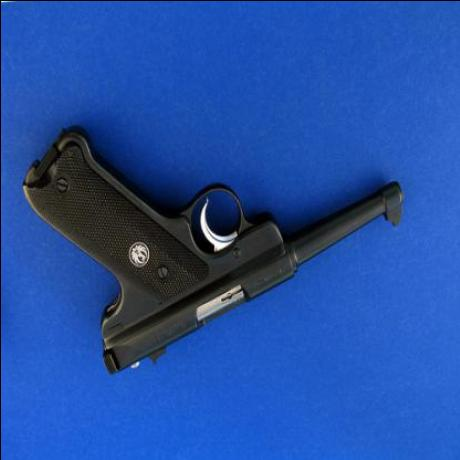weapon: (19, 126, 405, 374)
